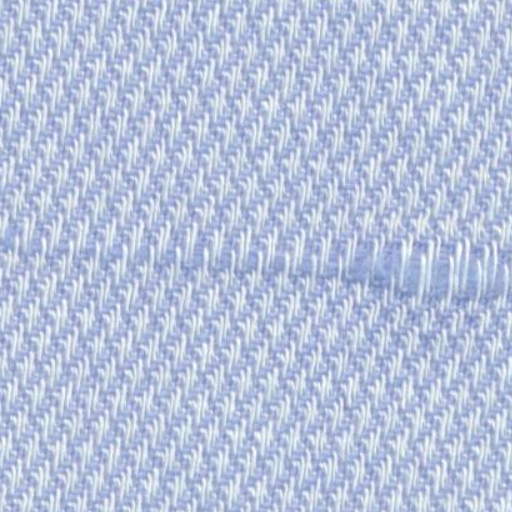DaiSha: (181, 219, 500, 326)
